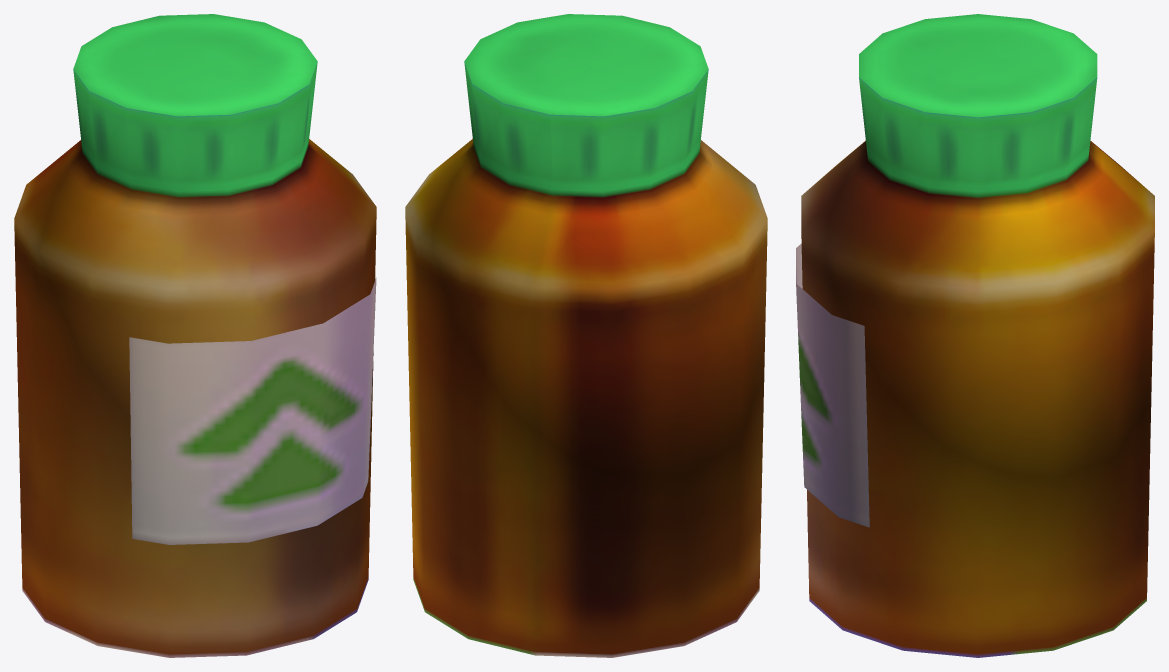
The picture shows the model from 3 angles, left to right: view 1: azimuth 30°, elevation 25°; view 2: azimuth 150°, elevation 25°; view 3: azimuth 270°, elevation 25°; orthographic projection.
Visible parts, largest first — view 1: ppmax; view 2: ppmax; view 3: ppmax.
Boxes of the visible parts, x1,y1,x2,y2 form: ppmax: (14,14,376,657); ppmax: (405,14,767,657); ppmax: (796,14,1154,657).
Bounding box in the file's own units: 1.16 × 1.83 × 1.15.
Materials: 1 (1 with a texture image).
